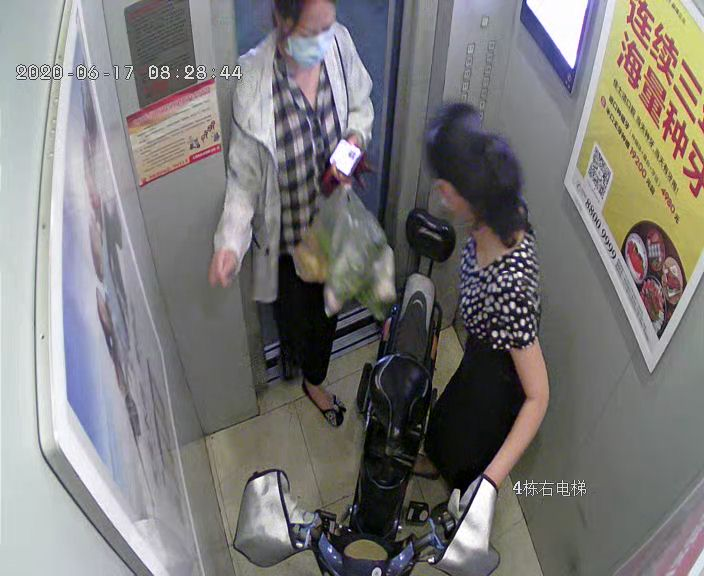Electric-bicycle: (240, 210, 499, 575)
